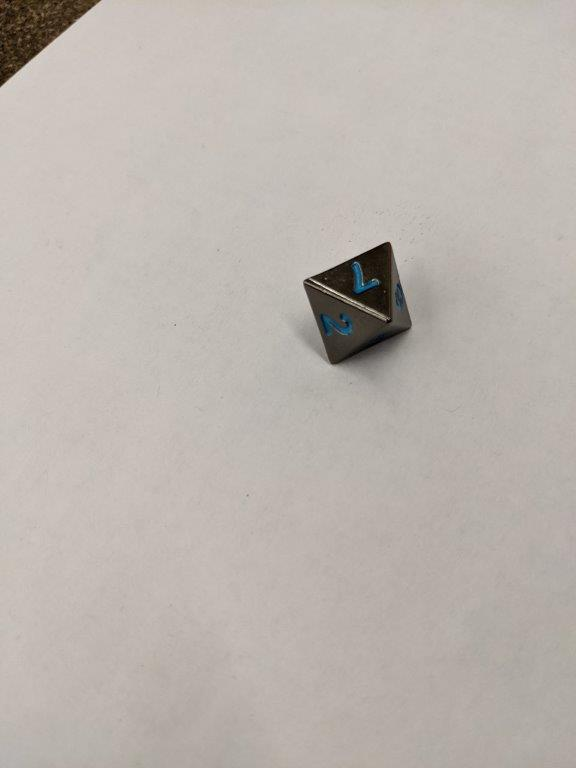d8-7: (301, 236, 414, 367)
